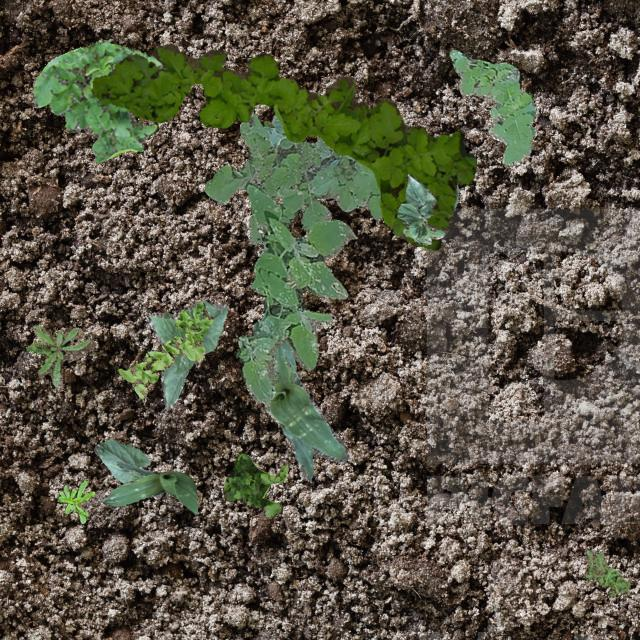crop: (264, 341, 348, 482), (146, 300, 228, 408), (102, 460, 196, 512), (94, 438, 162, 498), (396, 174, 444, 244)
weed: (92, 44, 476, 248), (203, 114, 458, 244), (235, 182, 356, 402), (32, 40, 162, 162), (448, 48, 534, 164), (116, 300, 212, 398), (24, 324, 94, 386), (222, 451, 288, 516), (584, 548, 628, 596), (56, 478, 94, 522), (262, 120, 272, 126)
